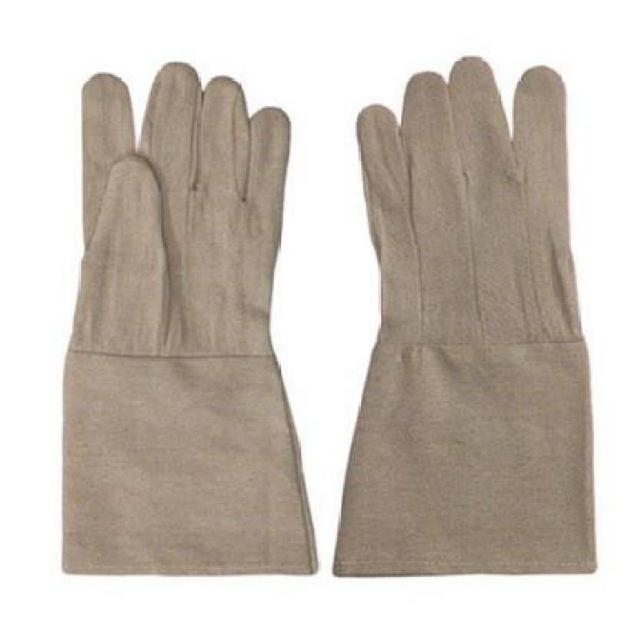glove: (331, 54, 597, 576), (61, 60, 318, 576)
